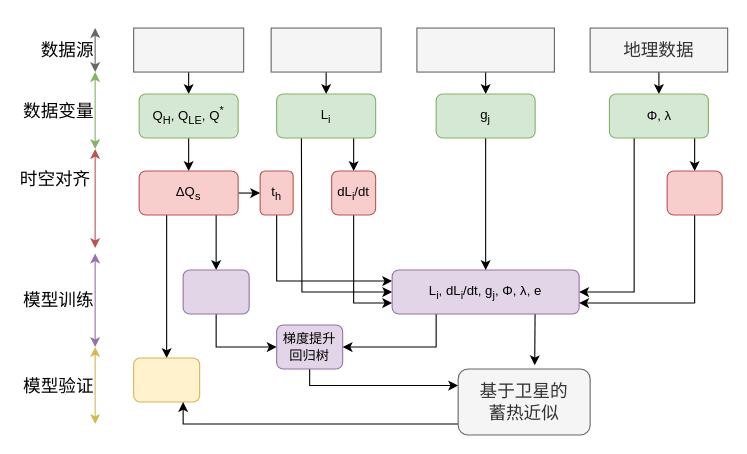
The diagram is 747 pixels wide and 454 high, and some of its shapes have lost their labels. The shapes that lost their labels are listed below. From the top down, each one's centre as x and y in pixels, then its label:
point (188, 49): 通量网络
point (325, 49): 遥感数据
point (485, 49): 土地覆盖(NLCD)
point (694, 192): e(DEM)
point (215, 291): 训练站 ΔQ s
point (166, 379): 验证站 ΔQ s
